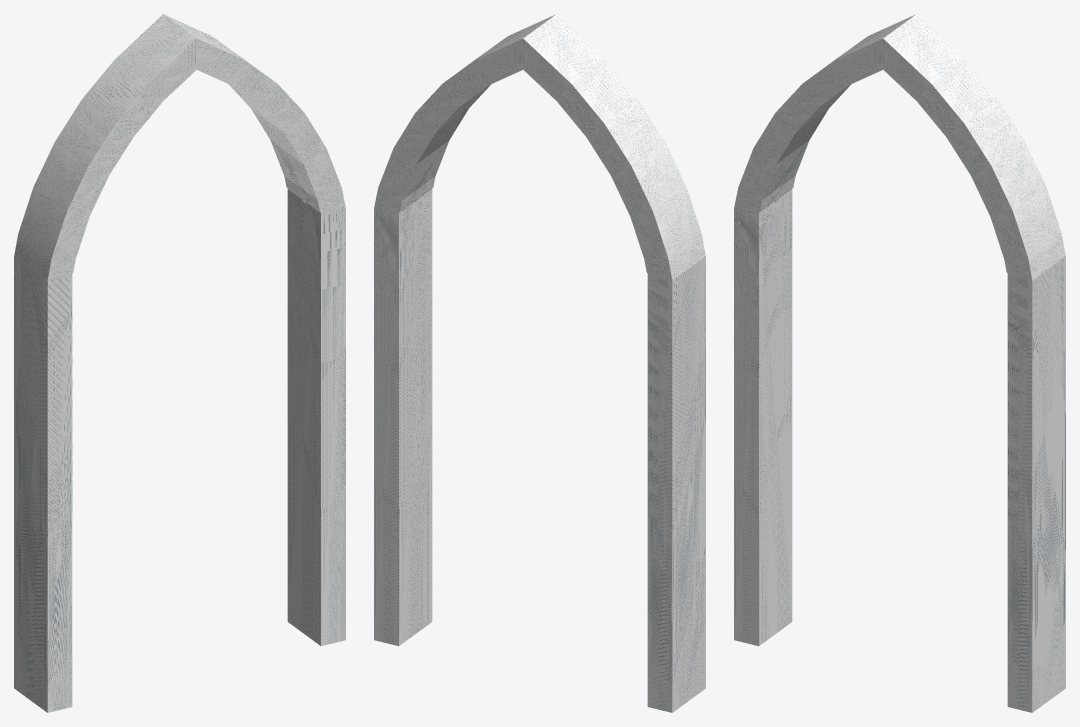
The model's file is doorB.fbx.
3 renders of one model, left to right at view 1: azimuth 30°, elevation 25°; view 2: azimuth 150°, elevation 25°; view 3: azimuth 330°, elevation 25°, orthographic.
Visible parts, largest first — view 1: Model; view 2: Model; view 3: Model.
Boxes of the visible parts, x1,y1,x2,y2 form: Model: (14, 14, 345, 712); Model: (374, 14, 705, 712); Model: (734, 14, 1065, 712).
Size of the model in its own units: 3.6 by 7.36 by 0.7.
